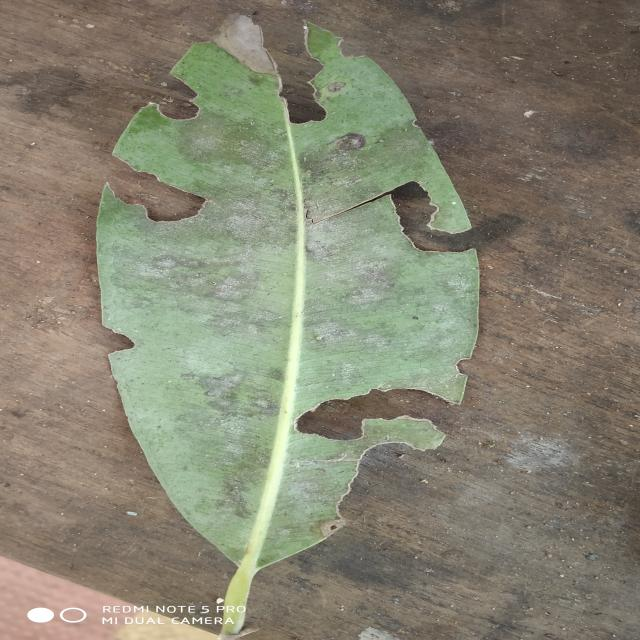nerale: (98, 15, 458, 636)
